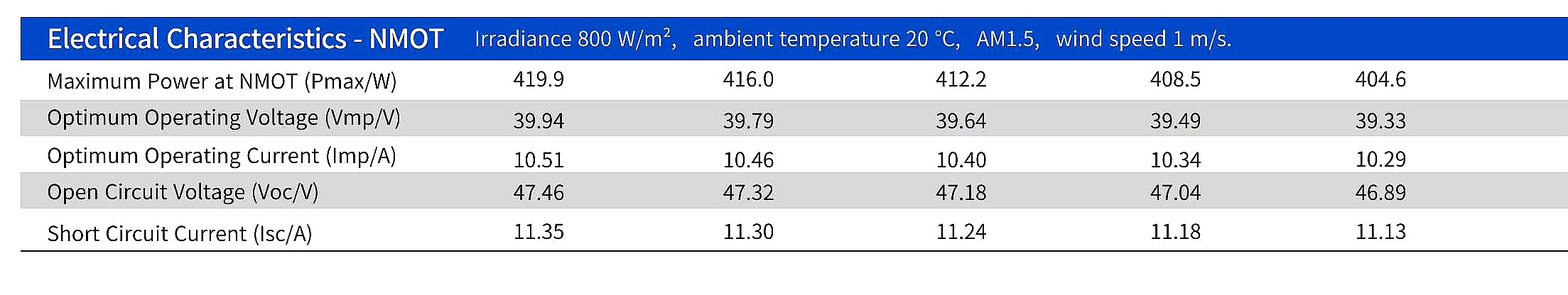table: (9, 7, 1568, 265)
table column: (18, 16, 455, 250), (1289, 15, 1520, 248), (455, 17, 683, 252), (687, 13, 907, 245), (1090, 16, 1288, 248), (908, 19, 1090, 247)
table name: (19, 20, 1561, 61)
table row: (16, 18, 1568, 62), (13, 136, 1568, 174), (18, 100, 1568, 138), (17, 63, 1566, 100), (13, 177, 1568, 211), (21, 213, 1566, 247)
table row header: (17, 18, 457, 252)
table spanning cell: (17, 17, 1568, 65)
